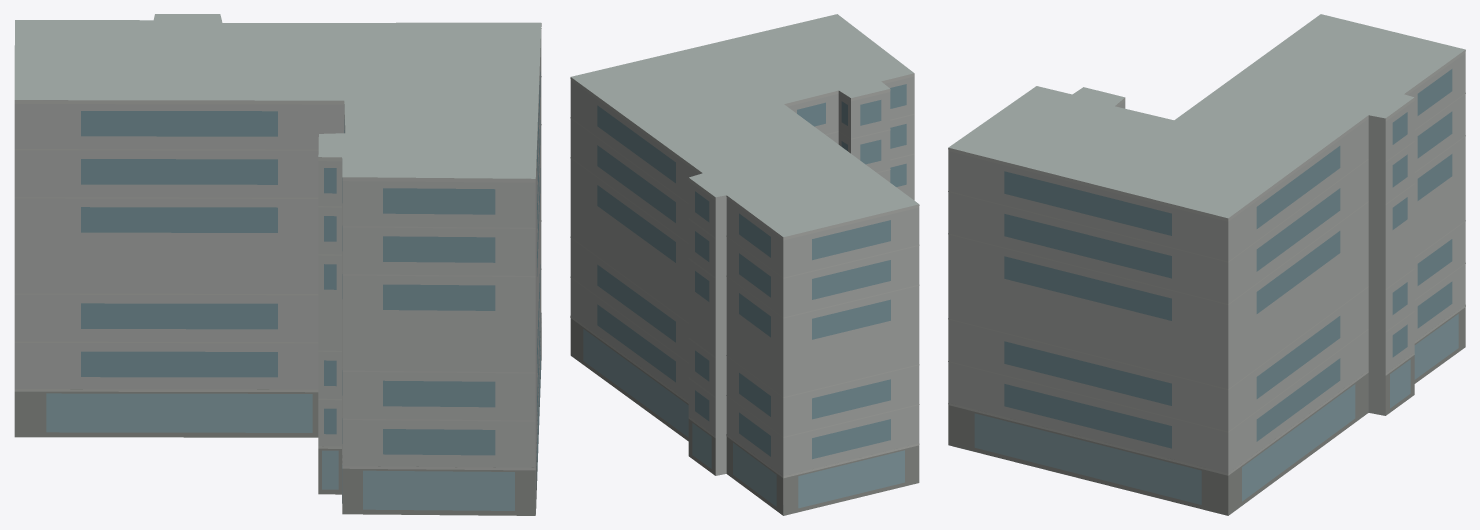
File: survey-upis-32881448.glb
3 views of the same model, side by side, from view 1: azimuth 30°, elevation 25°; view 2: azimuth 150°, elevation 25°; view 3: azimuth 270°, elevation 25° (orthographic). The views are drawn at different scales.
Parts seen in each view (by area): view 1: survey-upis-32881448.tmp; view 2: survey-upis-32881448.tmp; view 3: survey-upis-32881448.tmp.
Boxes of the visible parts, left/top/right/bottom form: survey-upis-32881448.tmp: left=14, top=14, right=541, bottom=515; survey-upis-32881448.tmp: left=570, top=14, right=919, bottom=515; survey-upis-32881448.tmp: left=948, top=14, right=1465, bottom=515.
Size of the model in its own units: 30.81 by 20.9 by 32.96.
